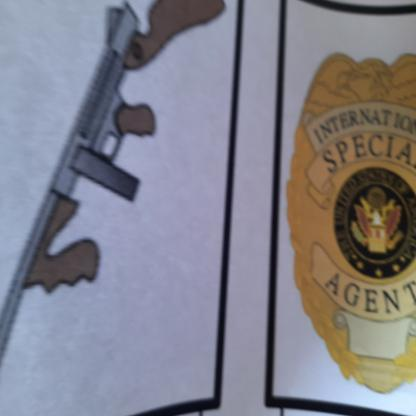Bootlegger: (2, 2, 233, 377)
G-man: (280, 35, 416, 398)
